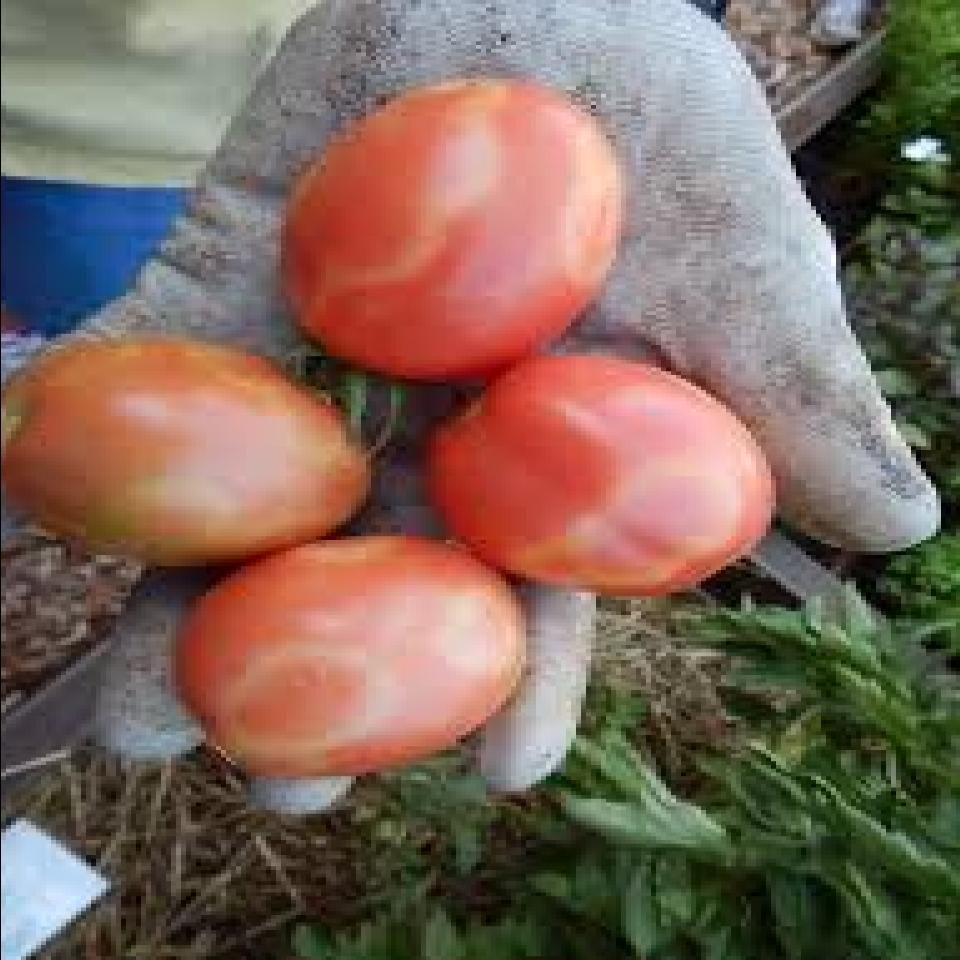Spotted wilt Virus: (275, 75, 625, 382), (160, 532, 525, 791), (415, 345, 775, 600), (0, 330, 375, 570)
